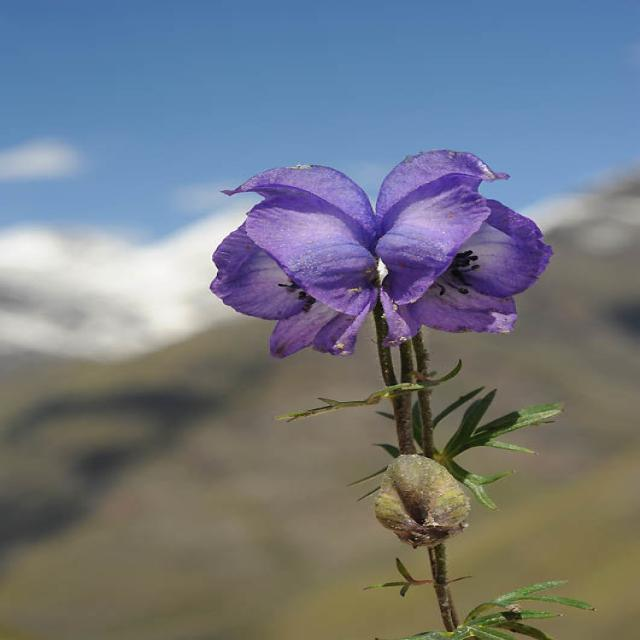Meetha: (105, 73, 640, 513)
